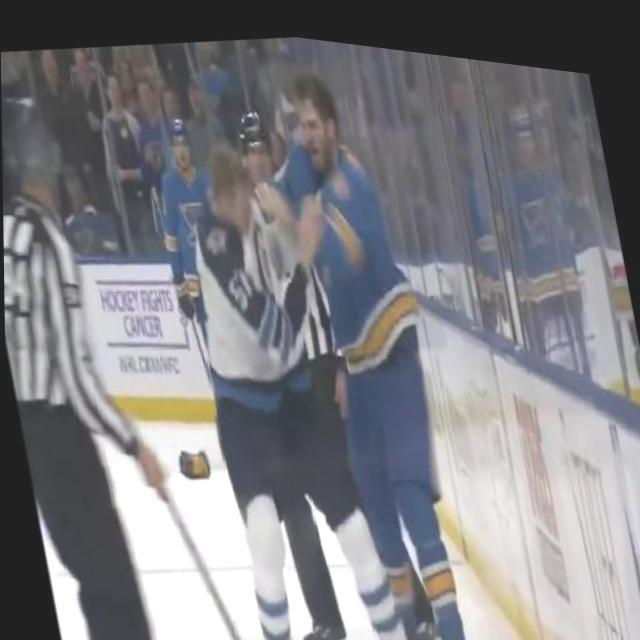fight: (160, 54, 474, 640)
